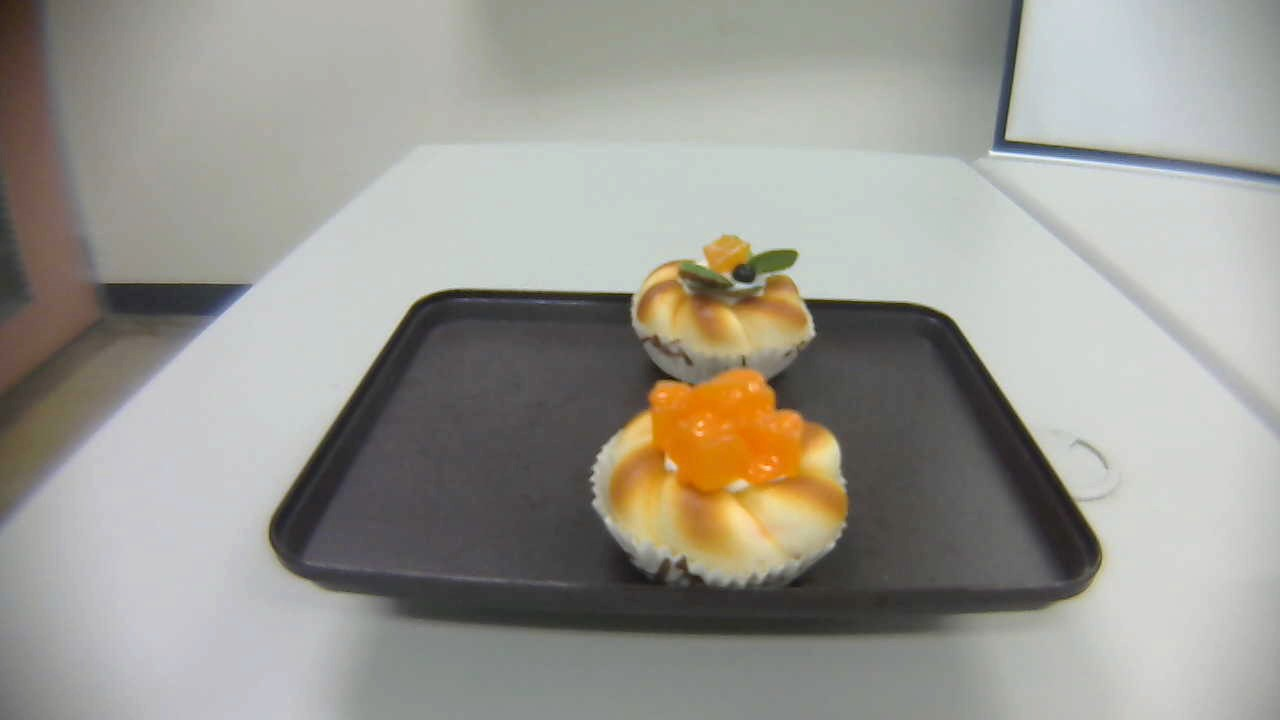fruit tart: (631, 233, 818, 387)
mango tart: (589, 367, 850, 591)
